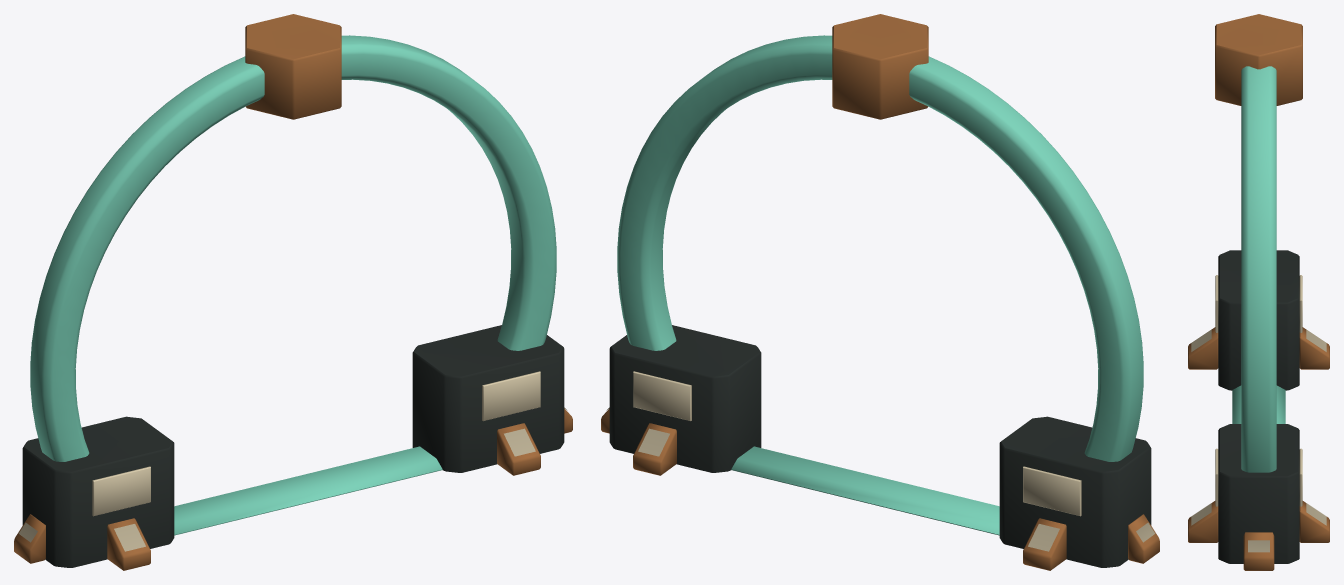
File: fabricator_hoop.glb
3 views of the same model, side by side, from view 1: azimuth 30°, elevation 25°; view 2: azimuth 150°, elevation 25°; view 3: azimuth 270°, elevation 25° (orthographic). The views are drawn at different scales.
Parts seen in each view (by area): view 1: Hoop, Footings; view 2: Hoop, Footings; view 3: Hoop, Footings.
Part boxes in pixels (<box>): Hoop: <box>14,14,572,570</box>; Footings: <box>22,325,564,567</box>; Hoop: <box>601,14,1159,570</box>; Footings: <box>609,325,1151,567</box>; Hoop: <box>1188,14,1329,570</box>; Footings: <box>1215,250,1302,563</box>.
Bounding box in the file's own units: 11.3 × 9.05 × 2.8.
